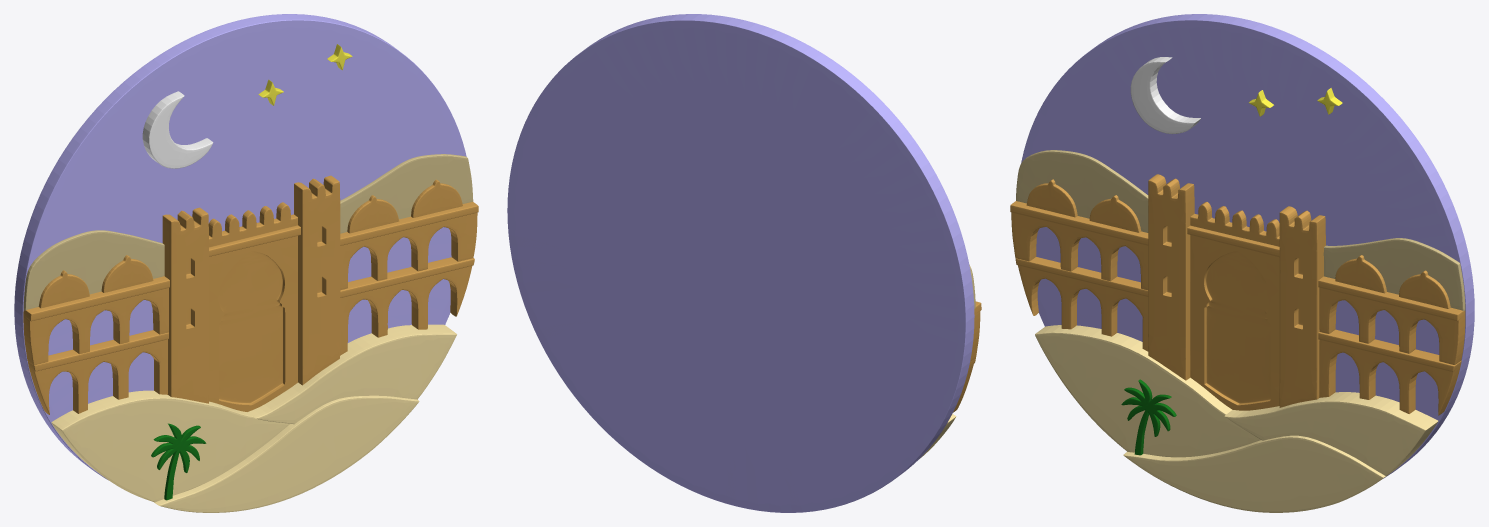
Rendered from caravanserai3.glb.
The picture shows the model from 3 angles, left to right: view 1: azimuth 30°, elevation 25°; view 2: azimuth 150°, elevation 25°; view 3: azimuth 330°, elevation 25°; orthographic projection. The views are drawn at different scales.
Parts seen in each view (by area): view 1: base.001, Vert.026, Vert.007, Vert.006, Vert.005, Vert.008, Vert.009, Vert.034, Vert.028, Vert.037, Vert.036, Vert.033 (+8 smaller); view 2: base.001; view 3: base.001, Vert.026, Vert.007, Vert.006, Vert.005, Vert.009, Vert.008, Vert.037, Vert.036, Vert.034, Vert.028, Vert.033 (+8 smaller).
Boxes of the visible parts, <box> form: base.001: <box>14,14,466,480</box>; Vert.026: <box>208,202,297,411</box>; Vert.007: <box>51,390,289,502</box>; Vert.006: <box>154,395,419,512</box>; Vert.005: <box>247,324,456,424</box>; Vert.008: <box>294,175,340,385</box>; Vert.009: <box>162,207,208,403</box>; Vert.034: <box>23,276,169,365</box>; Vert.028: <box>23,230,164,310</box>; Vert.037: <box>340,202,478,290</box>; Vert.036: <box>340,257,474,355</box>; Vert.033: <box>28,330,168,414</box>; base.001: <box>507,14,974,512</box>; base.001: <box>1021,14,1474,478</box>; Vert.026: <box>1190,202,1279,410</box>; Vert.007: <box>1035,325,1260,457</box>; Vert.006: <box>1123,435,1396,512</box>; Vert.005: <box>1224,392,1438,475</box>; Vert.009: <box>1148,174,1194,380</box>; Vert.008: <box>1279,206,1325,407</box>; Vert.037: <box>1318,276,1465,364</box>; Vert.036: <box>1318,329,1461,415</box>; Vert.034: <box>1010,201,1148,290</box>; Vert.028: <box>1016,150,1148,232</box>; Vert.033: <box>1015,257,1148,351</box>.
Bounding box in the file's own units: 5.99 × 5.99 × 0.5499.
